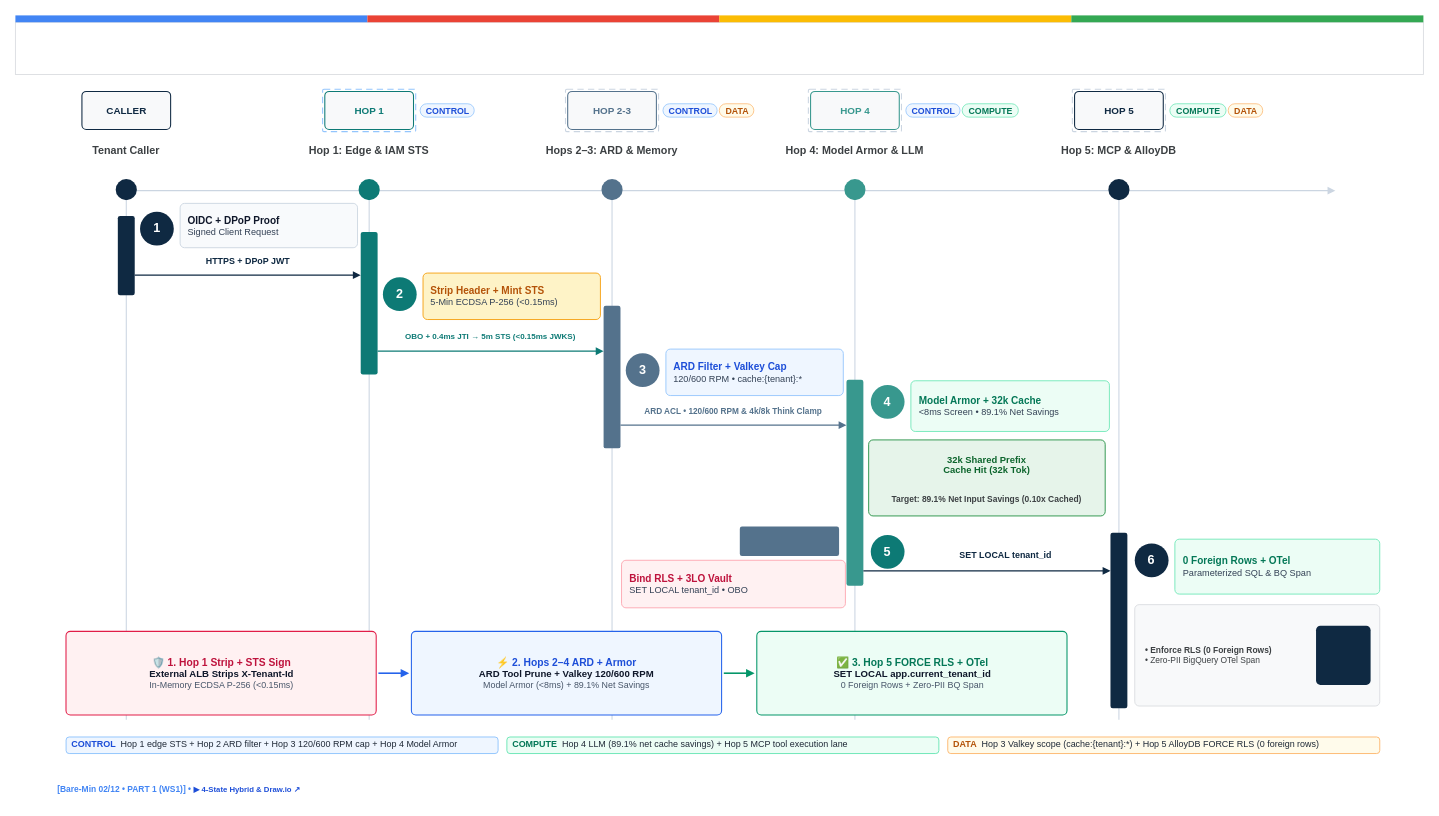
This 1439x816 diagram has some shape labels left out. Here are the shapes that lost their labels. From the top down, the box of each, then its label:
(15, 21, 1423, 75): WS1 - PART 1 - 5-Hop Cryptographic Request & Token Exchange
(739, 526, 839, 556): RLS + 3LO
(1316, 625, 1370, 684): OTel 200
